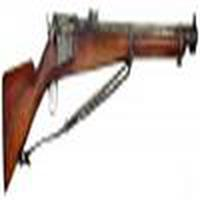gun: (1, 15, 194, 132)
